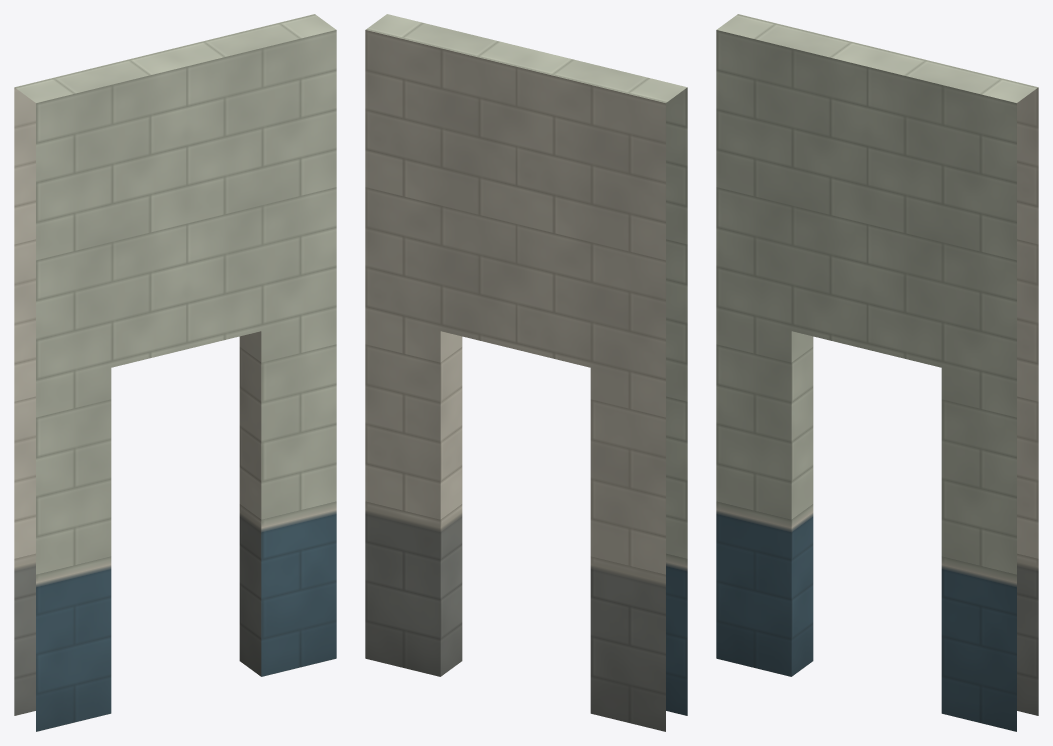
Rendered from wall_cell_doorway.fbx.
3 views of the same model, side by side, from view 1: azimuth 30°, elevation 25°; view 2: azimuth 150°, elevation 25°; view 3: azimuth 330°, elevation 25° (orthographic).
Parts seen in each view (by area): view 1: wall_cell_doorway; view 2: wall_cell_doorway; view 3: wall_cell_doorway.
Boxes of the visible parts, x1,y1,x2,y2 form: wall_cell_doorway: (14, 14, 336, 731); wall_cell_doorway: (365, 14, 687, 731); wall_cell_doorway: (716, 14, 1038, 731).
Bounding box in the file's own units: 2 × 4 × 0.25.
Materials: 1 (1 with a texture image).
